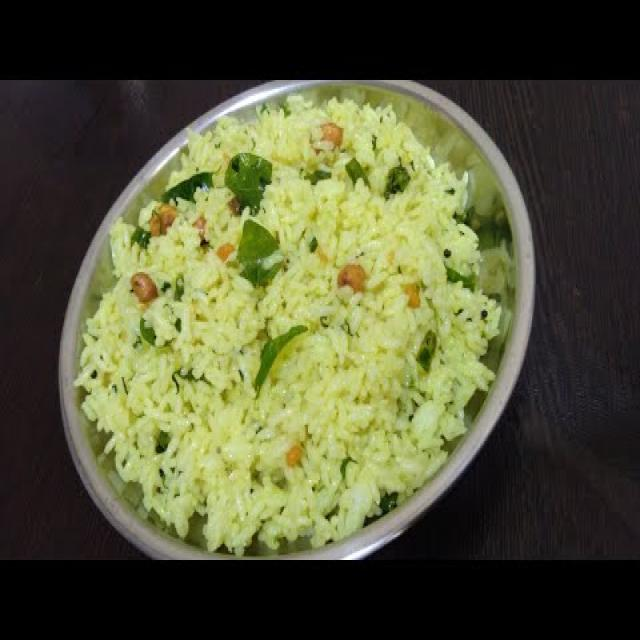lemon rice: (64, 80, 510, 558)
